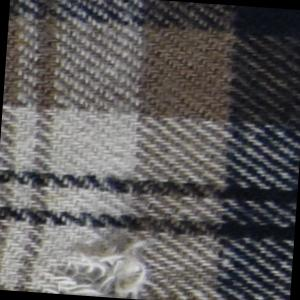Damage: (30, 223, 166, 300)
